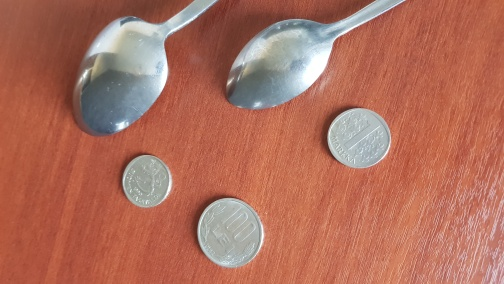coin: (196, 197, 265, 269), (326, 107, 392, 168), (121, 154, 172, 208)
